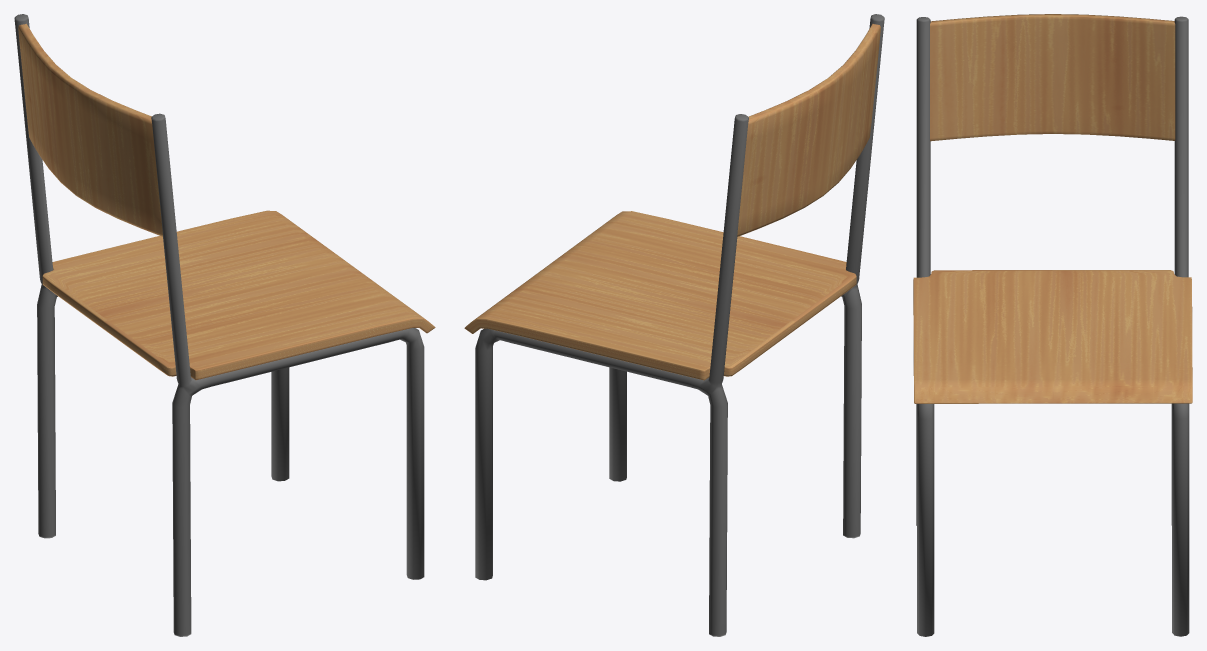
File: chair02.glb
3 views of the same model, side by side, from view 1: azimuth 30°, elevation 25°; view 2: azimuth 150°, elevation 25°; view 3: azimuth 270°, elevation 25° (orthographic). The views are drawn at different scales.
Visible parts, largest first — view 1: seat, legs, rest; view 2: seat, legs, rest; view 3: seat, rest, legs.
Part boxes in pixels (x1=…): seat: x1=42, y1=210, x2=435, y2=380; legs: x1=14, y1=14, x2=424, y2=636; rest: x1=18, y1=23, x2=162, y2=236; seat: x1=464, y1=211, x2=856, y2=380; legs: x1=475, y1=14, x2=884, y2=636; rest: x1=737, y1=23, x2=880, y2=236; seat: x1=913, y1=270, x2=1192, y2=403; rest: x1=930, y1=14, x2=1175, y2=141; legs: x1=916, y1=16, x2=1189, y2=636.
Bounding box in the file's own units: 0.5596 × 0.9387 × 0.4789.
Materials: 2 (1 with a texture image).
